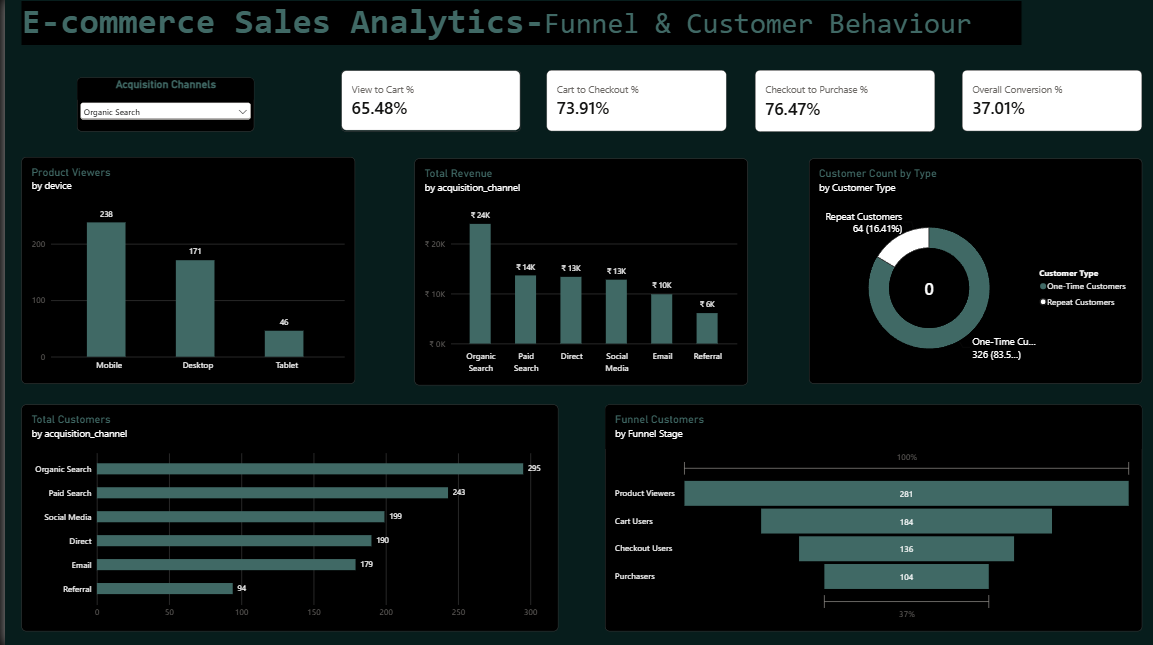

What the dashboard file says about the page in this screenshot:
{"tool":"powerbi","page":{"name":"Funnel & Customer Behaviour","canvas":[1920,1080],"ordinal":1},"visuals":[{"type":"funnel","fields":{"Category":["Funnel Stages.Funnel Stage"],"Y":["measure.Funnel Customers"]},"box":[1000,678,895.1,378],"z":0},{"type":"cardVisual","fields":{"Data":["measure.View to Cart %"]},"box":[561.1,119.4,300,102.8],"z":1000},{"type":"cardVisual","fields":{"Data":["measure.Cart to Checkout %"]},"box":[903.3,120,300,102.8],"z":2000},{"type":"cardVisual","fields":{"Data":["measure.Checkout to Purchase %"]},"box":[1250,120,300,103.3],"z":3000},{"type":"cardVisual","fields":{"Data":["measure.Overall Conversion %"]},"box":[1595,120,300,102.5],"z":4000},{"type":"clusteredColumnChart","fields":{"Category":["events.device"],"Y":["measure.Product Viewers"]},"box":[26.8,265.9,556.3,378.2],"z":5000},{"type":"donutChart","fields":{"Category":["Customer Type.Customer Type"],"Y":["measure.Customer Count by Type"]},"box":[1340,267.5,555,375],"z":6000},{"type":"clusteredBarChart","fields":{"Category":["customers.acquisition_channel"],"Y":["measure.Total Customers"]},"box":[27.8,677.8,894.4,377.8],"z":7000},{"type":"clusteredColumnChart","fields":{"Category":["customers.acquisition_channel"],"Y":["measure.Total Revenue"]},"box":[683.3,266.7,555.6,377.8],"z":8000},{"type":"slicer","title":"Acquisition Channels","fields":{"Values":["events.acquisition_channel"]},"box":[120,133.3,295,90],"z":9000},{"type":"textbox","box":[26.8,4.9,1666.4,73.2],"z":10000}]}

Visuals, with their boxes in screenshot pixels (x1, y1, x2, y2), scaled from the page's 1920x1080 canvas onto the 1153x645 screenshot:
funnel - Funnel Stages.Funnel Stage x measure.Funnel Customers: bbox=[601, 405, 1138, 631]
cardVisual - measure.View to Cart %: bbox=[337, 71, 517, 133]
cardVisual - measure.Cart to Checkout %: bbox=[542, 72, 723, 133]
cardVisual - measure.Checkout to Purchase %: bbox=[751, 72, 931, 133]
cardVisual - measure.Overall Conversion %: bbox=[958, 72, 1138, 133]
clusteredColumnChart - events.device x measure.Product Viewers: bbox=[16, 159, 350, 385]
donutChart - Customer Type.Customer Type x measure.Customer Count by Type: bbox=[805, 160, 1138, 384]
clusteredBarChart - customers.acquisition_channel x measure.Total Customers: bbox=[17, 405, 554, 630]
clusteredColumnChart - customers.acquisition_channel x measure.Total Revenue: bbox=[410, 159, 744, 385]
"Acquisition Channels" slicer: bbox=[72, 80, 249, 133]
textbox: bbox=[16, 3, 1017, 47]
